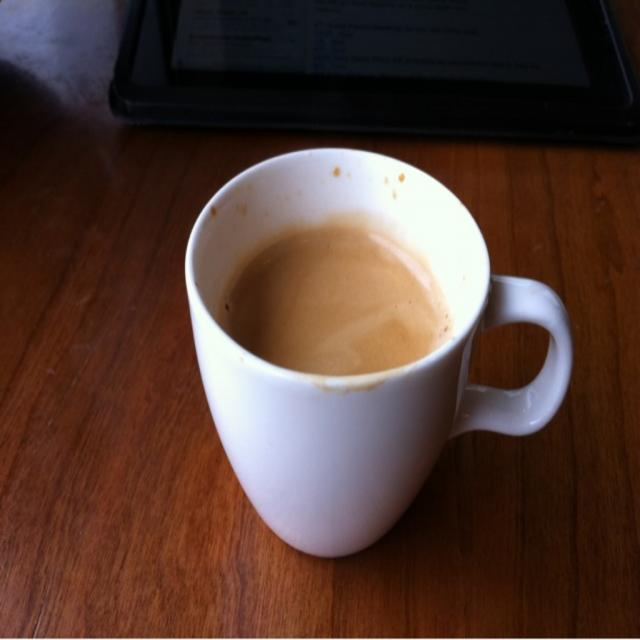Coffee: (221, 227, 443, 375)
Tea: (216, 228, 454, 376)
